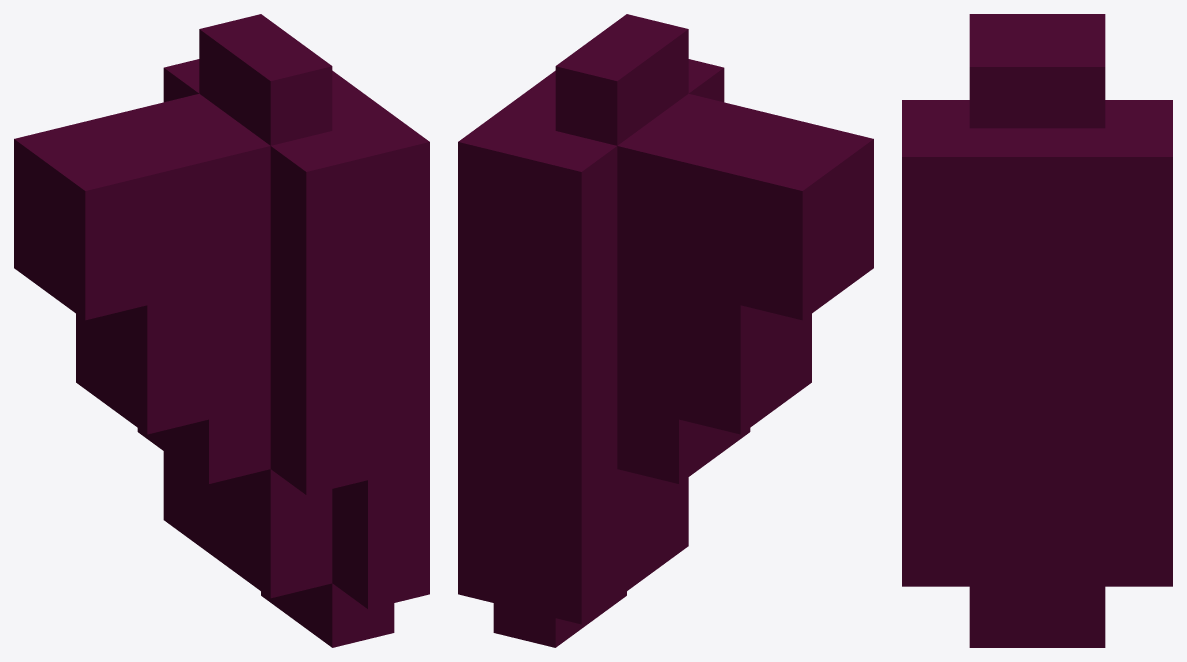
File: kiritan_HairL.obj
3 renders of one model, left to right at view 1: azimuth 30°, elevation 25°; view 2: azimuth 150°, elevation 25°; view 3: azimuth 270°, elevation 25°, orthographic. The views are drawn at different scales.
Visible parts, largest first — view 1: kiritan_HairL; view 2: kiritan_HairL; view 3: kiritan_HairL.
Boxes of the visible parts, box(x1,y1,x2,y2) form: kiritan_HairL: box(14, 14, 429, 647); kiritan_HairL: box(458, 14, 873, 647); kiritan_HairL: box(902, 14, 1172, 647).
Size of the model in its own units: 5 by 9 by 4.
1 material, 1 textured.
